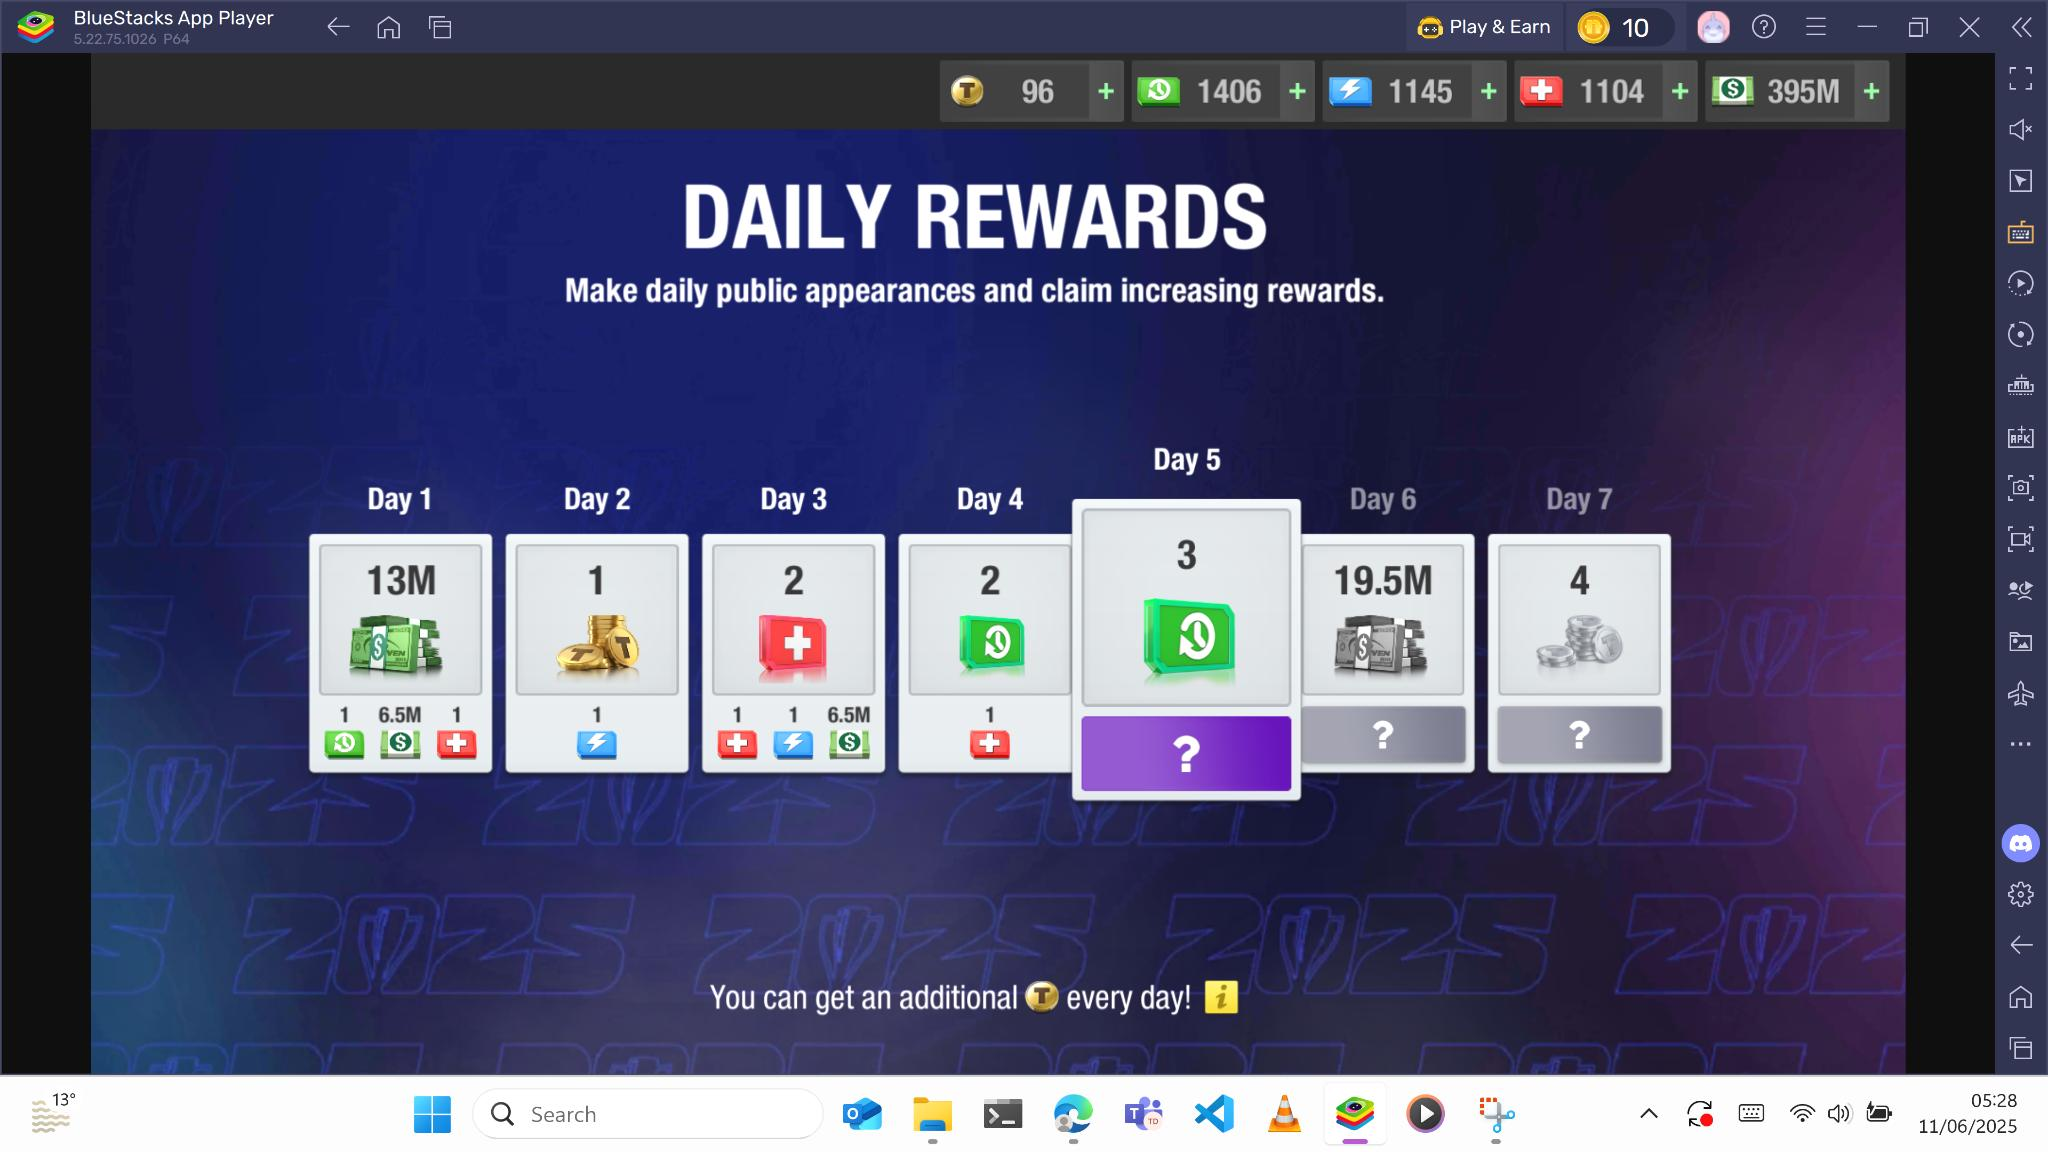daily_rewards_Question: (1081, 716, 1291, 791)
